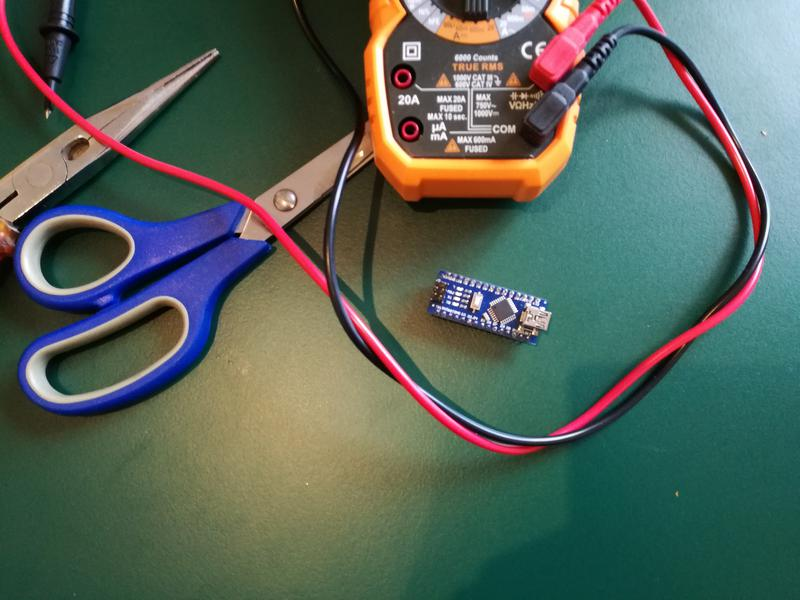Arduino_Nano: (425, 266, 556, 352)
